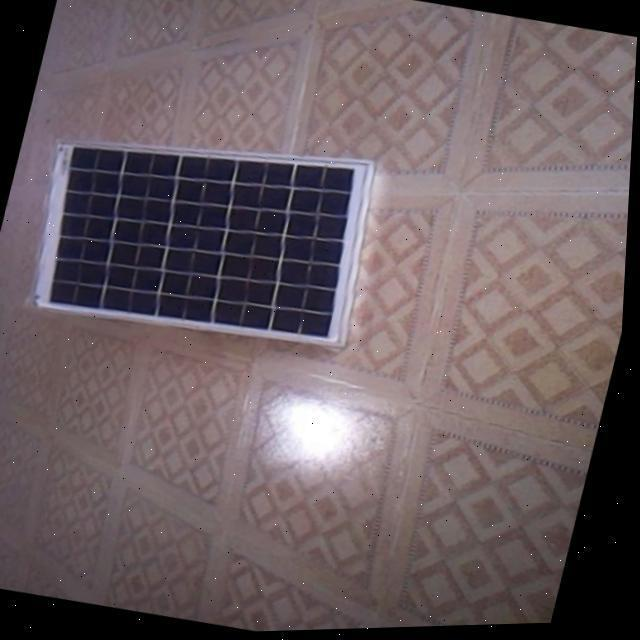Normal Solar Panel: (21, 104, 388, 366)
